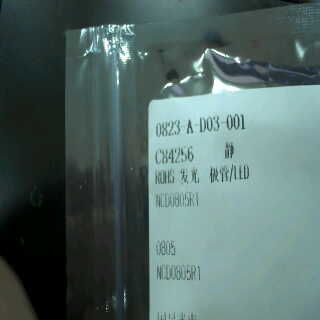LED: (178, 161, 254, 185)
